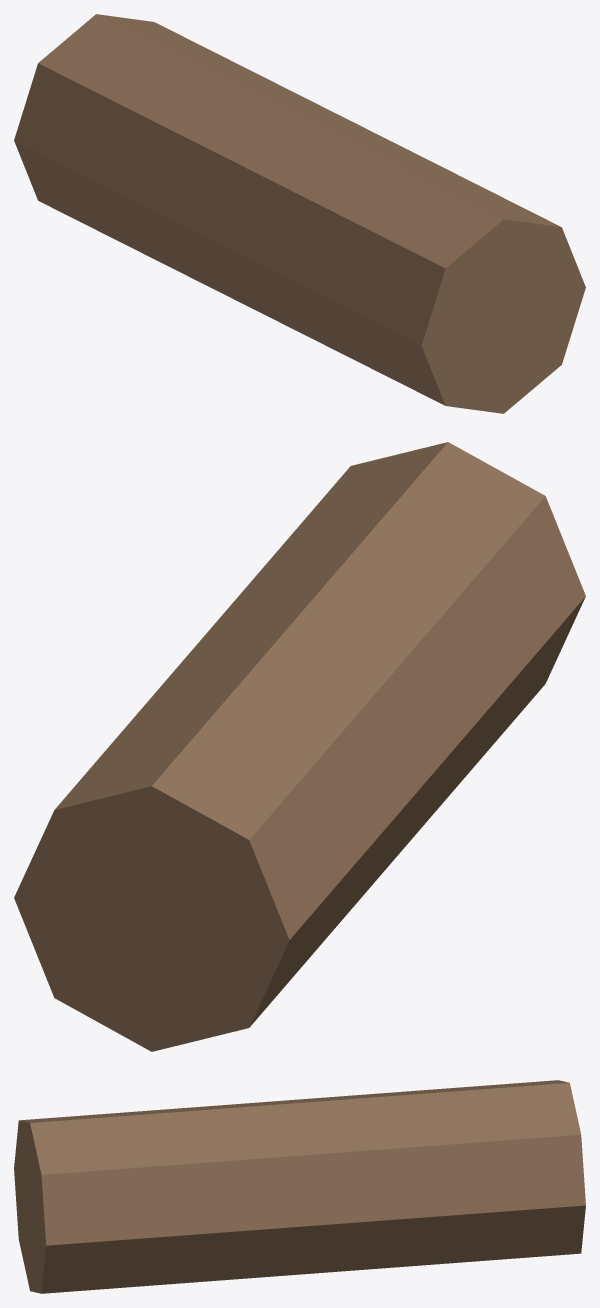
File: sit_log.glb
3 views of the same model, one above another, from view 1: azimuth 30°, elevation 25°; view 2: azimuth 150°, elevation 25°; view 3: azimuth 270°, elevation 25° (orthographic). The views are drawn at different scales.
Parts seen in each view (by area): view 1: SitLog.002; view 2: SitLog.002; view 3: SitLog.002.
Part boxes in pixels (x1,y1,x2,y2): SitLog.002: (14, 14, 585, 413); SitLog.002: (14, 442, 585, 1051); SitLog.002: (14, 1080, 585, 1293).
Size of the model in its own units: 0.6591 by 0.44 by 1.36.
